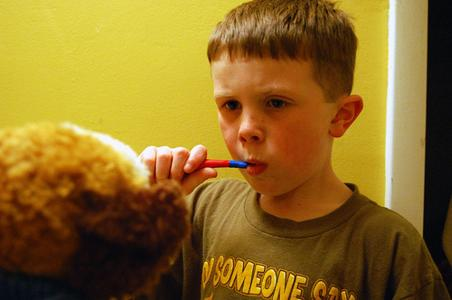person: (139, 1, 452, 299)
